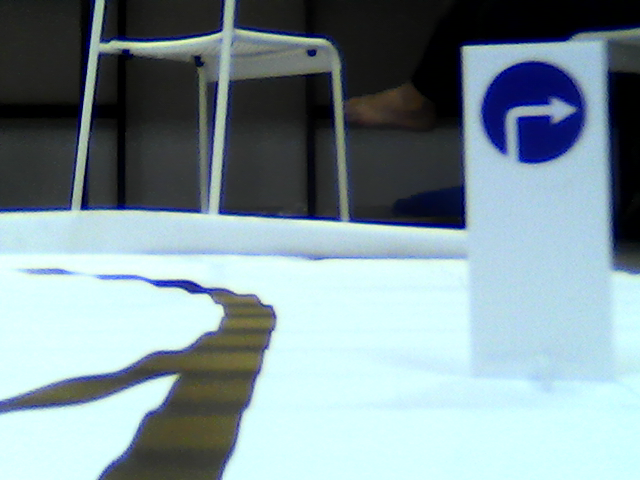Right: (481, 59, 586, 163)
